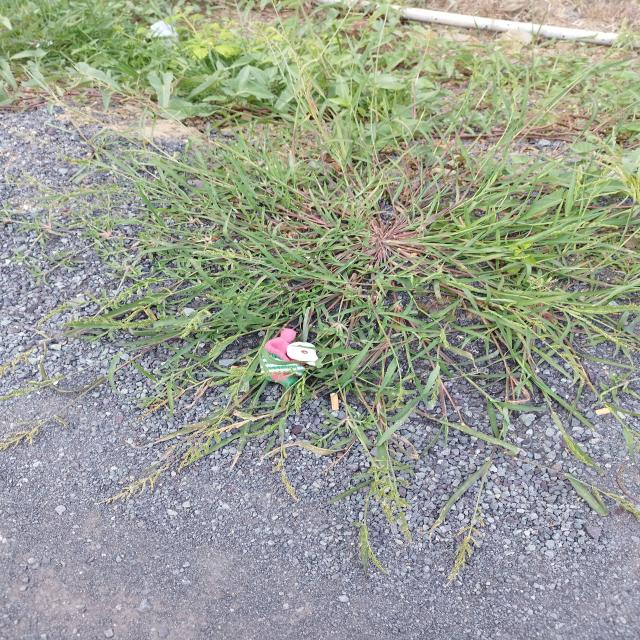clothes: (259, 328, 305, 389)
